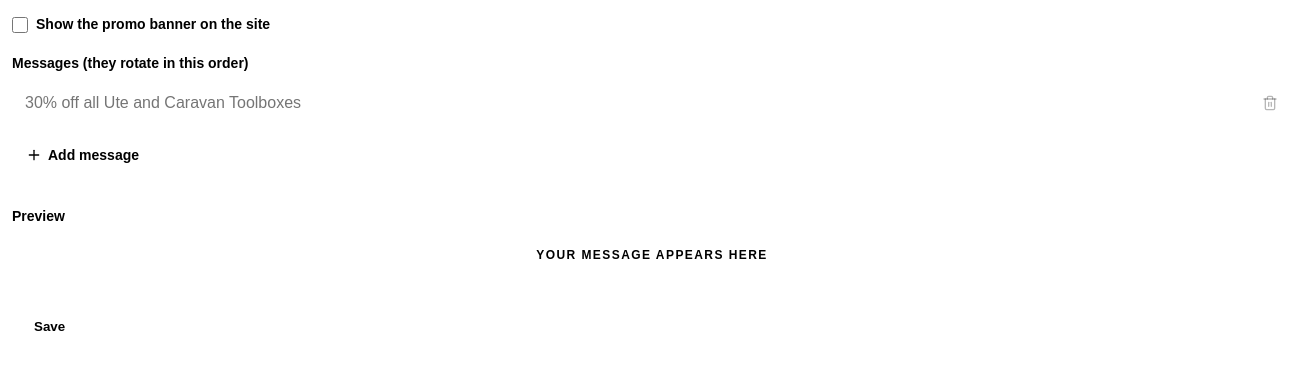
Test: PromoBannerForm › refuses to enable the banner with no messages
Click the checkbox labelled "Show the promo banner on the site" at (20, 24), box x1=12 y1=16 x2=28 y2=32
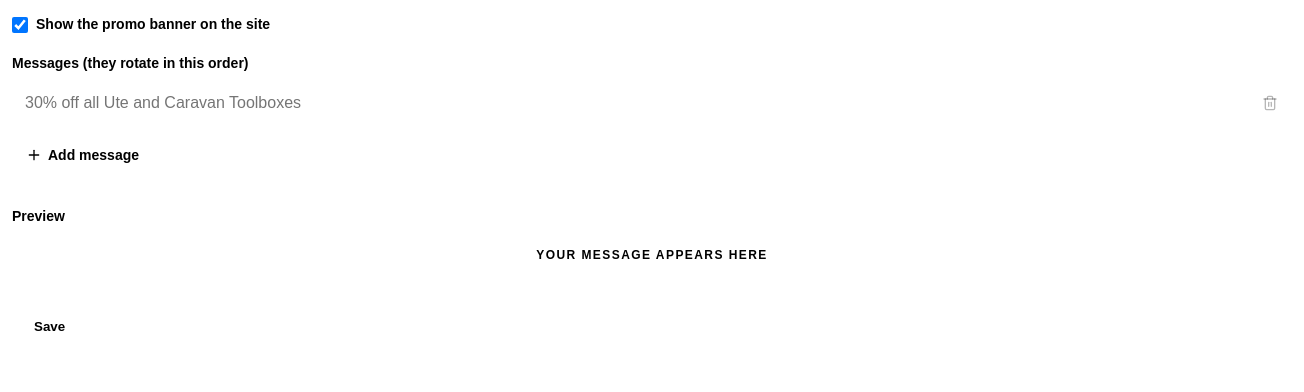
Click the button "Save" at (50, 326), box x1=12 y1=308 x2=87 y2=345
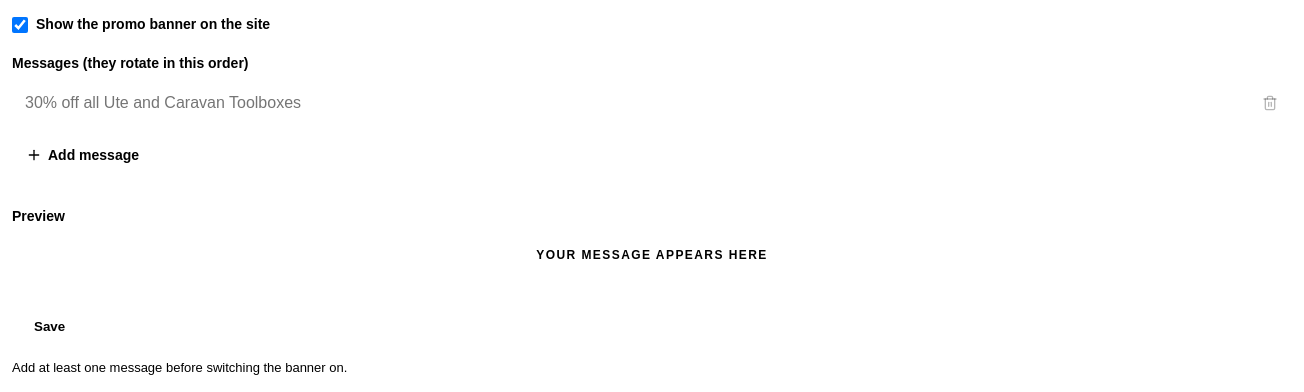
Result: the message shows "at least one message" at x1=12 y1=360 x2=347 y2=375
